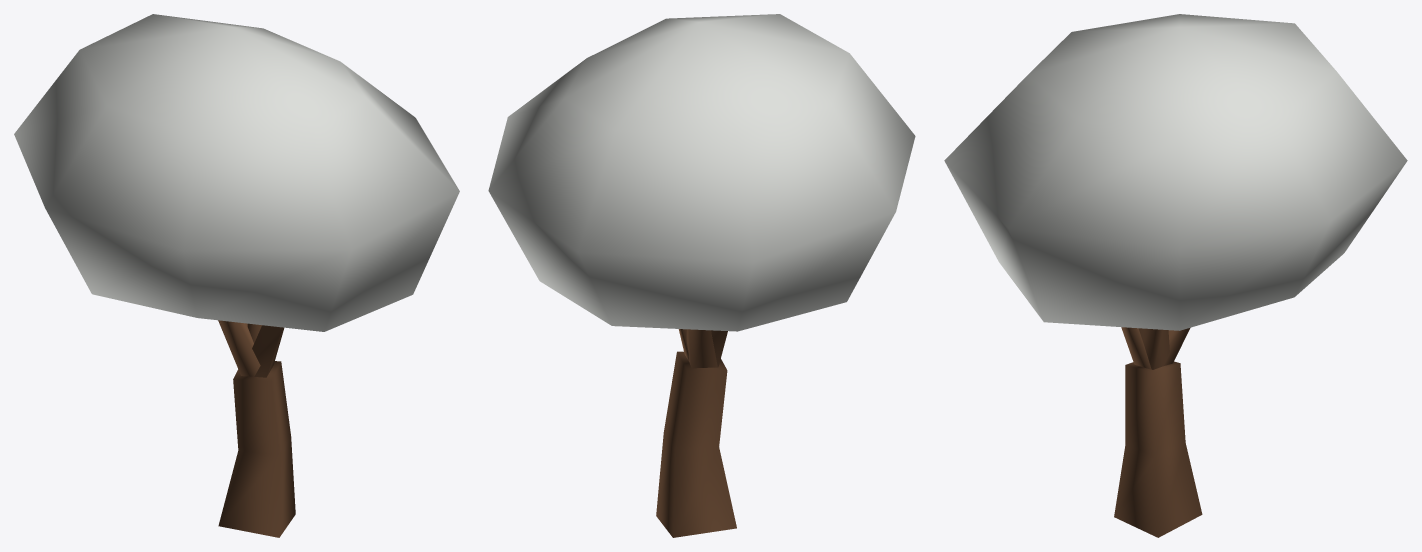
Rendered from ek-lite.glb.
3 renders of one model, left to right at view 1: azimuth 30°, elevation 25°; view 2: azimuth 150°, elevation 25°; view 3: azimuth 270°, elevation 25°, orthographic. The views are drawn at different scales.
Parts seen in each view (by area): view 1: crown, trunk; view 2: crown, trunk; view 3: crown, trunk.
Boxes of the visible parts, <box> form: crown: <box>14,14,459,331</box>; trunk: <box>218,320,295,537</box>; crown: <box>488,14,915,331</box>; trunk: <box>656,329,736,537</box>; crown: <box>944,14,1407,330</box>; trunk: <box>1114,327,1202,537</box>.
Size of the model in its own units: 11.81 by 14.98 by 12.96.
